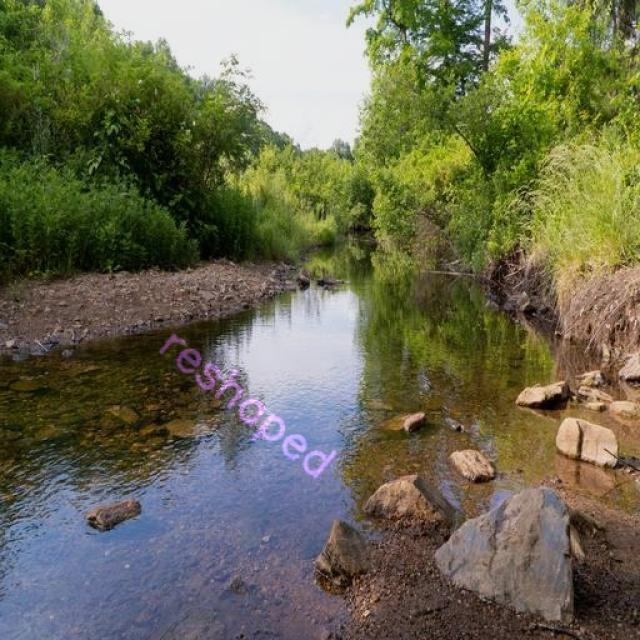watermark: (145, 314, 353, 490)
